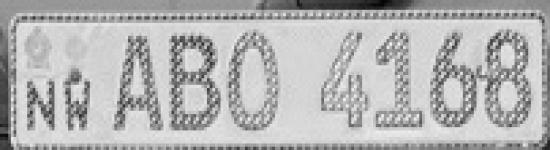1: (374, 23, 427, 136)
4: (304, 22, 375, 137)
6: (430, 22, 478, 134)
8: (482, 24, 535, 133)
A: (106, 31, 165, 136)
B: (165, 31, 223, 138)
N: (22, 74, 59, 134)
O: (223, 27, 289, 136)
W: (58, 72, 105, 136)
